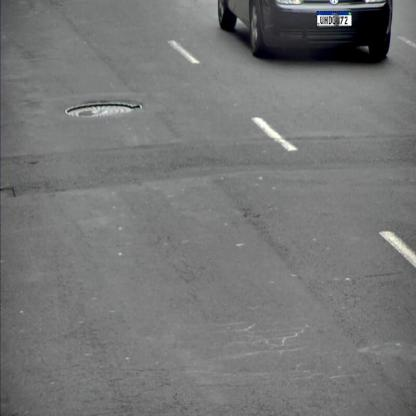PlacaM: (317, 11, 352, 26)
